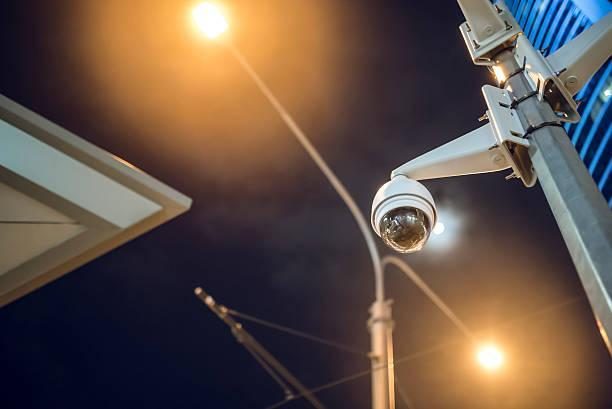camera: (344, 157, 454, 271)
